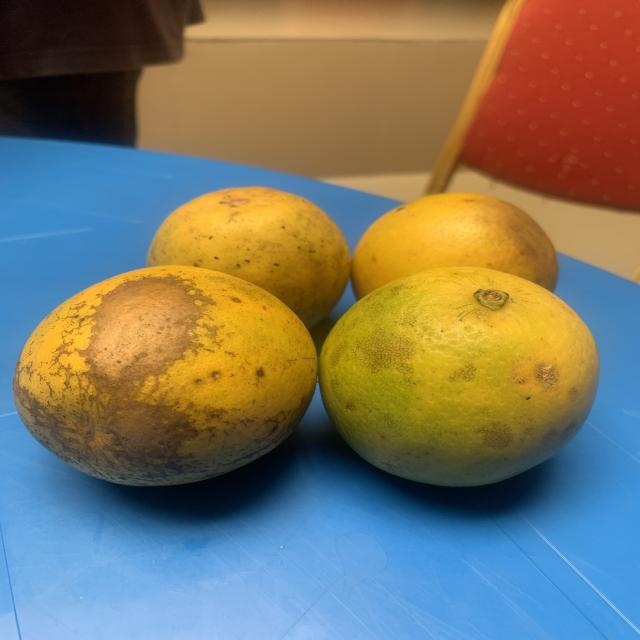Ripe orange: (13, 262, 324, 497), (316, 260, 608, 496), (150, 167, 352, 322), (351, 179, 565, 308)
